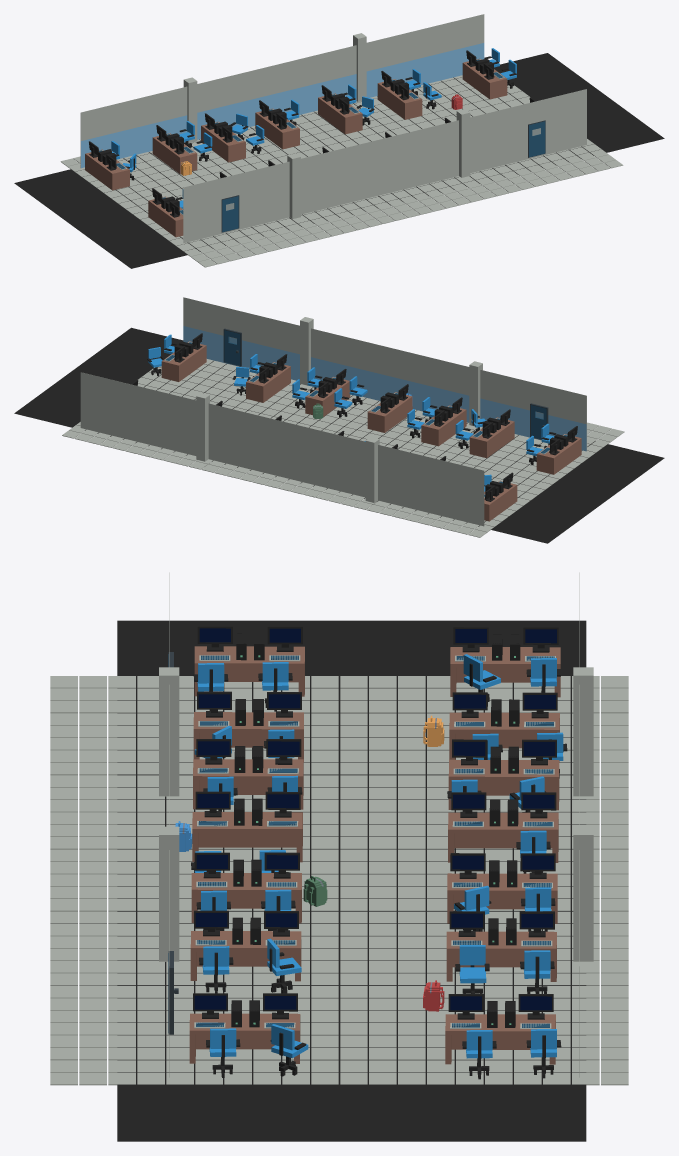
File: stage4_fix.fbx
The picture shows the model from 3 angles, top to bottom: view 1: azimuth 30°, elevation 25°; view 2: azimuth 150°, elevation 25°; view 3: azimuth 270°, elevation 25°; orthographic projection. The views are drawn at different scales.
Parts seen in each view (by area): view 1: Cube_2_10_2, Cube_4_2_2, Plane, Cube_27, Cube_28, Cube_29, Cube_33, Cube_30, Cube_32, Cube_31, Cube_21_2, 기둥1 (+5 smaller); view 2: Cube_4_2_2, Cube_2_10_2, Plane, Cube_34, Cube_35, Cube_40, Cube_39, Cube_37, Cube_36, Cube_12_2, Cube_11_2_2, Cube_21_2 (+5 smaller); view 3: Plane, Cube_12_2, Cube_21_2, Cube_11_2_2, 기둥1, Cube_30, Cube_37, Cube_28, Cube_31, Cube_38, Cube_32, Cube_39 (+9 smaller).
Boxes of the visible parts, x1=… form: Cube_2_10_2: x1=183, y1=89, x2=586, y2=243; Cube_4_2_2: x1=80, y1=14, x2=484, y2=168; Plane: x1=14, y1=53, x2=664, y2=268; Cube_27: x1=462, y1=58, x2=507, y2=99; Cube_28: x1=377, y1=79, x2=422, y2=119; Cube_29: x1=318, y1=93, x2=362, y2=134; Cube_33: x1=85, y1=149, x2=129, y2=190; Cube_30: x1=255, y1=108, x2=299, y2=149; Cube_32: x1=152, y1=133, x2=197, y2=173; Cube_31: x1=201, y1=121, x2=245, y2=162; Cube_21_2: x1=456, y1=109, x2=470, y2=177; 기둥1: x1=287, y1=153, x2=300, y2=219; Cube_4_2_2: x1=80, y1=372, x2=484, y2=526; Cube_2_10_2: x1=183, y1=297, x2=586, y2=451; Plane: x1=14, y1=327, x2=664, y2=543; Cube_34: x1=536, y1=434, x2=581, y2=474; Cube_35: x1=469, y1=417, x2=514, y2=458; Cube_40: x1=161, y1=341, x2=206, y2=381; Cube_39: x1=246, y1=362, x2=290, y2=402; Cube_37: x1=367, y1=392, x2=412, y2=432; Cube_36: x1=421, y1=405, x2=466, y2=446; Cube_12_2: x1=196, y1=392, x2=209, y2=466; Cube_11_2_2: x1=365, y1=437, x2=379, y2=504; Cube_21_2: x1=300, y1=317, x2=313, y2=385; Plane: x1=117, y1=620, x2=586, y2=1141; Cube_12_2: x1=573, y1=826, x2=593, y2=961; Cube_21_2: x1=159, y1=826, x2=179, y2=961; Cube_11_2_2: x1=573, y1=667, x2=593, y2=796; 기둥1: x1=159, y1=667, x2=179, y2=796; Cube_30: x1=448, y1=812, x2=558, y2=862; Cube_37: x1=192, y1=812, x2=302, y2=862; Cube_28: x1=446, y1=931, x2=556, y2=981; Cube_31: x1=448, y1=759, x2=559, y2=810; Cube_38: x1=191, y1=873, x2=301, y2=923; Cube_32: x1=449, y1=712, x2=559, y2=762; Cube_39: x1=190, y1=931, x2=301, y2=981.
Size of the model in its own units: 10677 by 1322 by 5008.
